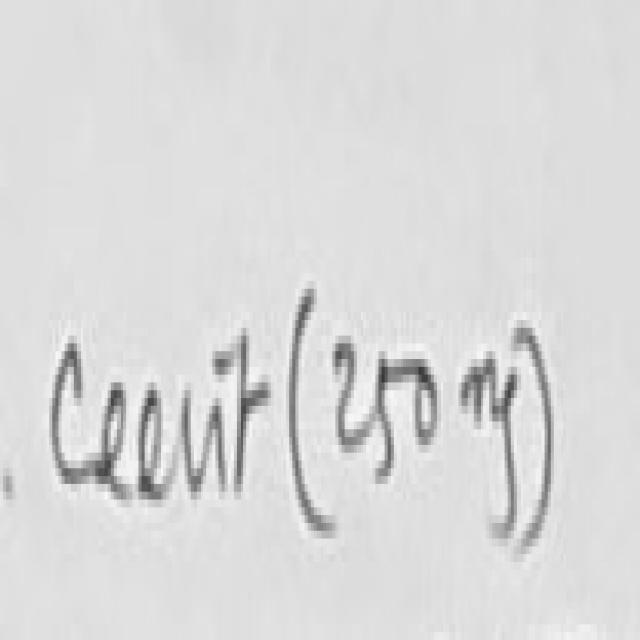0: (418, 367, 440, 445)
2: (335, 343, 378, 453)
5: (378, 359, 408, 480)
C: (52, 343, 95, 484)
e: (138, 390, 175, 508), (102, 382, 129, 500)
g: (495, 371, 520, 535)
i: (218, 406, 228, 492), (215, 351, 232, 382)
m: (462, 357, 498, 423)
t: (237, 336, 271, 488)
v: (185, 402, 216, 500)
